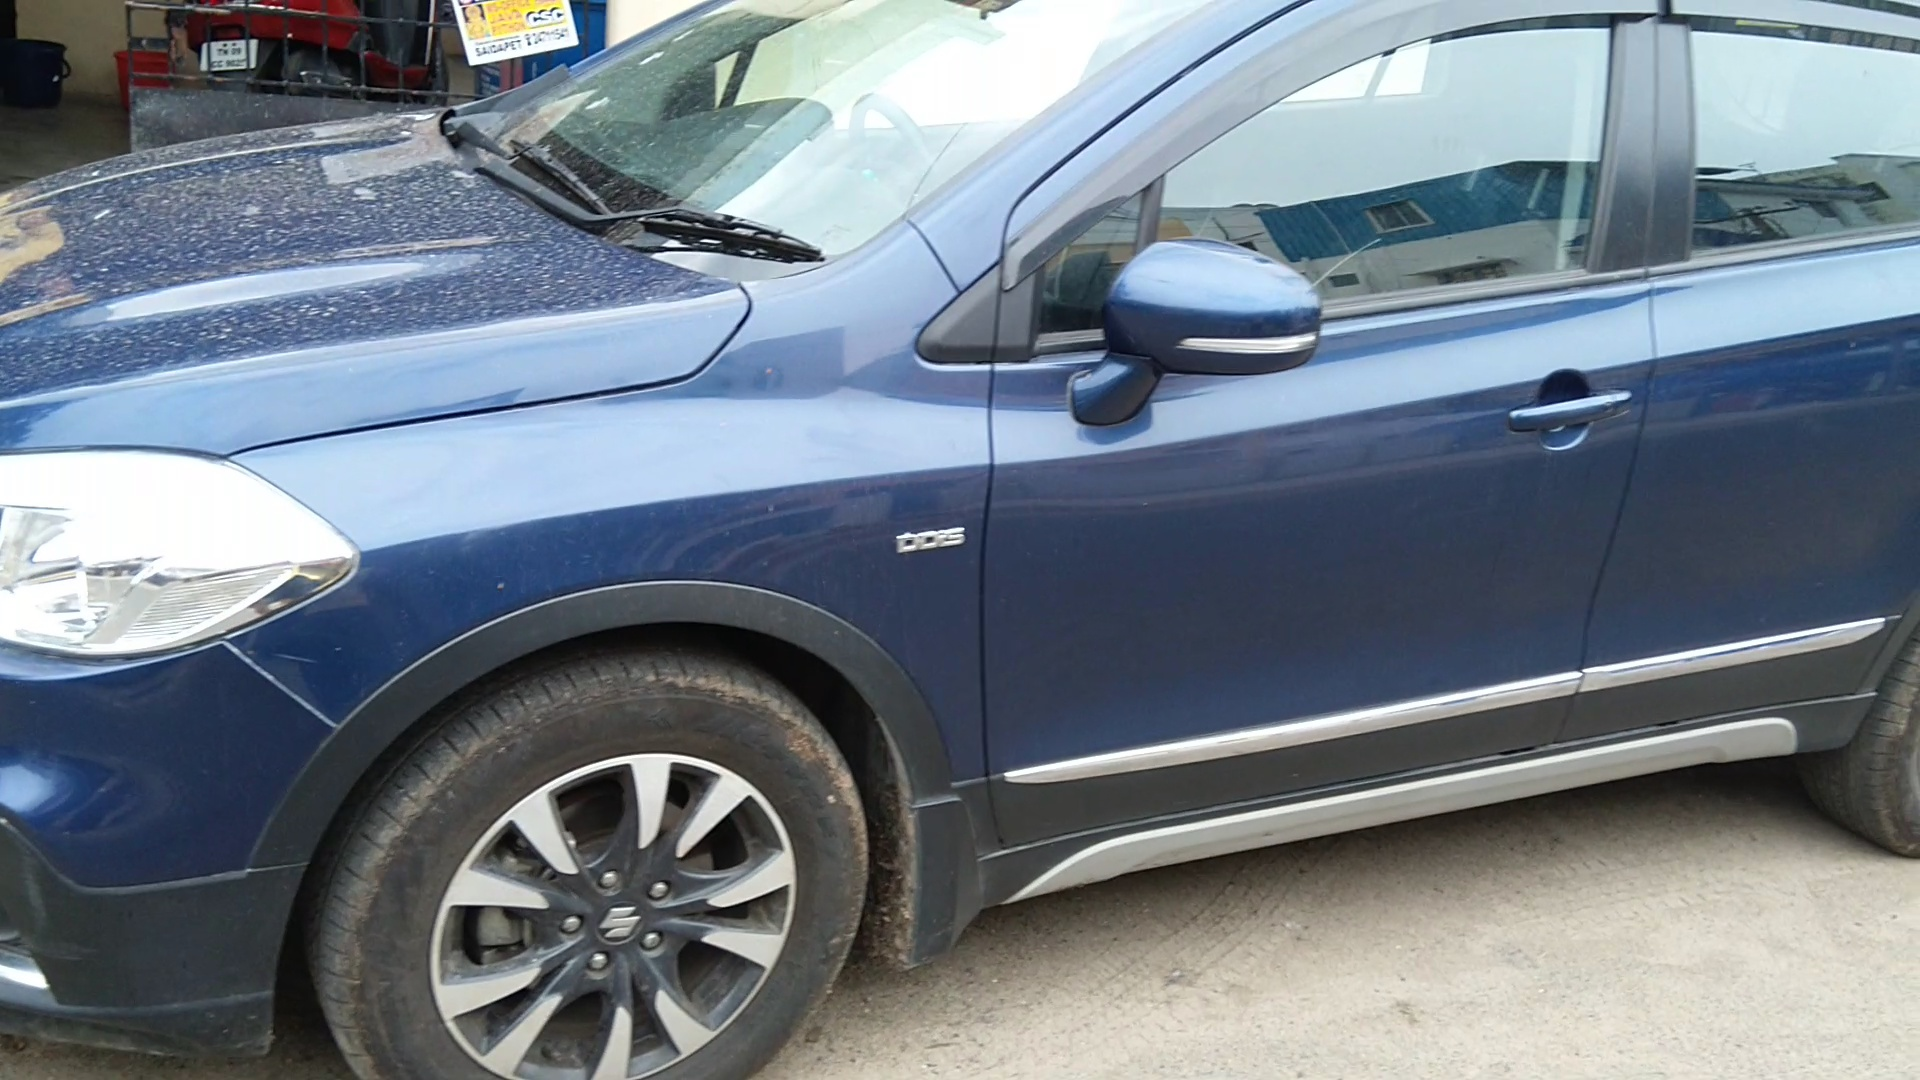alloy_wheel: (323, 678, 851, 1080)
headlamp: (1, 425, 404, 708)
ovr_mirror: (1079, 233, 1338, 411)
